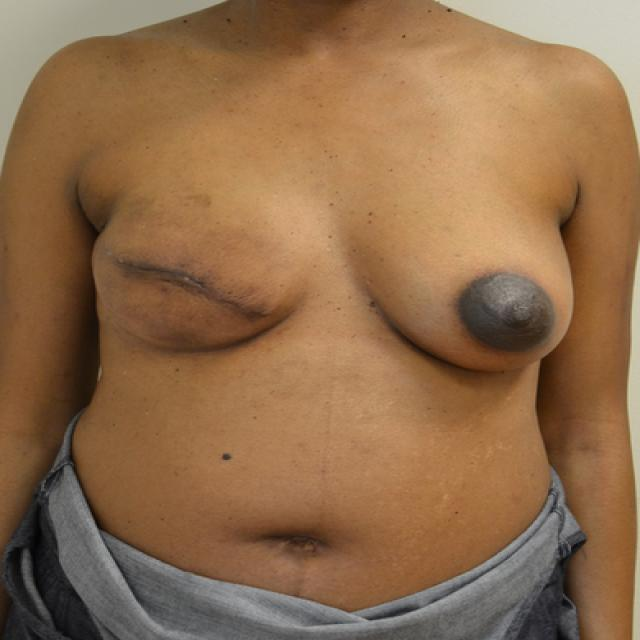Seno herido: (86, 193, 328, 367)
Seno ileso: (344, 193, 580, 381)
